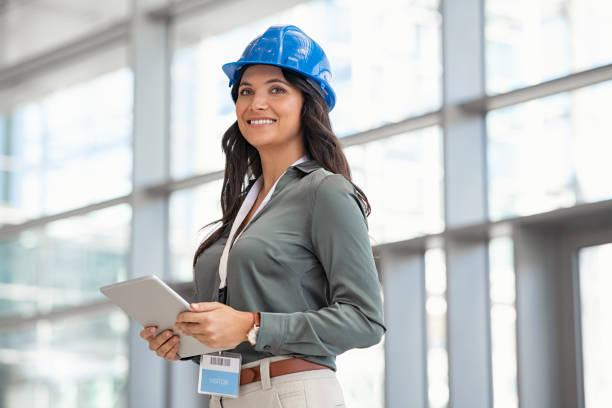capacete: (222, 24, 344, 112)
pessoa: (131, 19, 386, 408)
